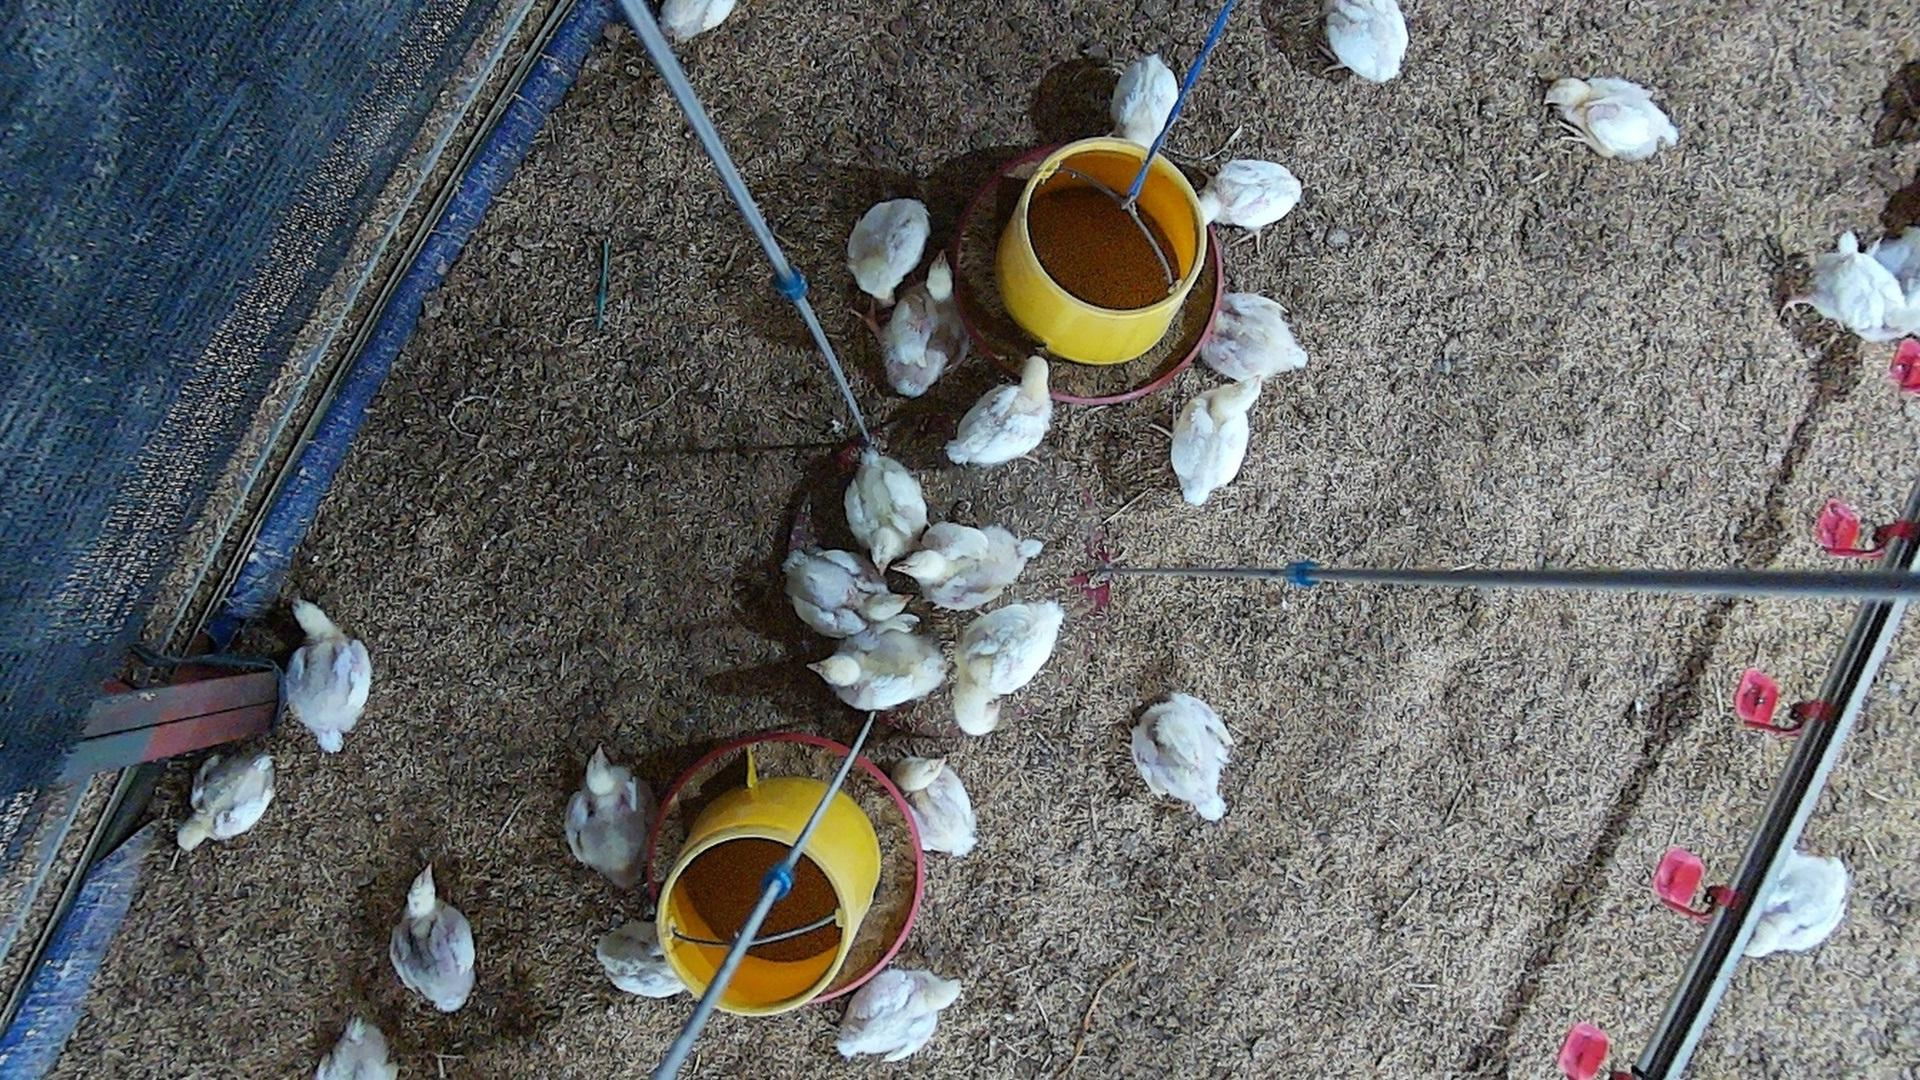ayam_broiler: (951, 601, 1063, 735), (1126, 692, 1232, 820), (285, 601, 372, 754), (1807, 227, 1919, 342), (901, 521, 1042, 609), (390, 866, 475, 1011), (835, 969, 965, 1063), (882, 255, 968, 397), (786, 546, 914, 640), (811, 624, 948, 711), (564, 748, 654, 880), (1171, 381, 1263, 508), (947, 357, 1052, 465), (1742, 853, 1846, 960), (844, 446, 928, 570), (1548, 76, 1675, 158), (1195, 293, 1308, 382), (178, 750, 274, 848), (848, 198, 928, 302), (1197, 160, 1302, 233), (901, 757, 976, 855), (597, 923, 686, 998), (1325, 0, 1407, 80), (1112, 54, 1178, 153), (311, 1018, 401, 1079)
